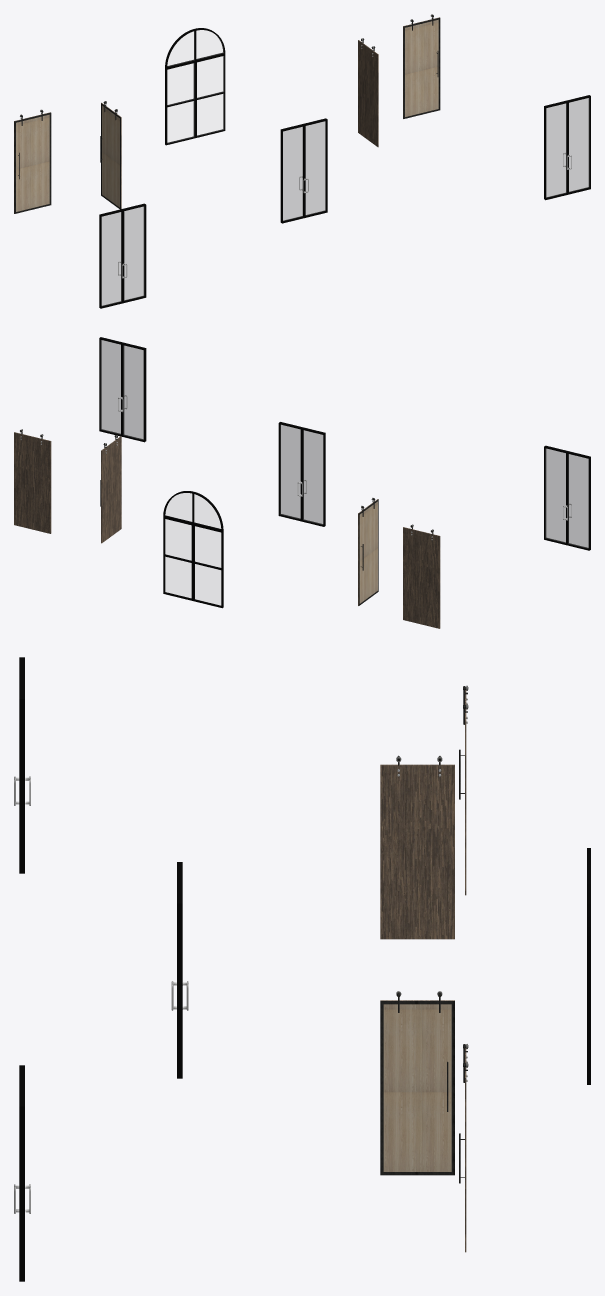
File: doors.glb
3 renders of one model, top to bottom at view 1: azimuth 30°, elevation 25°; view 2: azimuth 150°, elevation 25°; view 3: azimuth 270°, elevation 25°, orthographic. The views are drawn at different scales.
Parts seen in each view (by area): view 1: Group geometry (×8); view 2: Group geometry (×8); view 3: Group geometry (×6).
Part boxes in pixels (<box>): Group geometry (×8): <box>14,17,590,308</box>; Group geometry (×8): <box>14,337,590,628</box>; Group geometry (×6): <box>19,657,590,1281</box>.
Bounding box in the file's own units: 13.22 × 2.8 × 7.17.
Materials: 11 (4 with a texture image).
